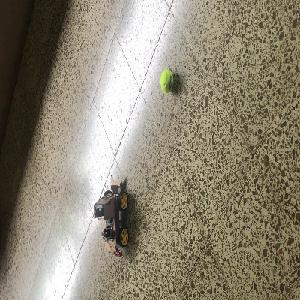Ball: (160, 69, 173, 94)
Robot: (93, 173, 130, 253)
